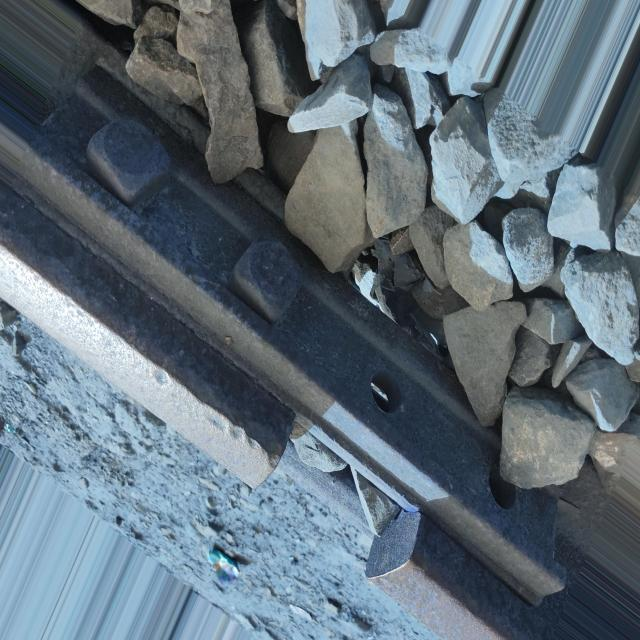Defective Joint: (16, 50, 571, 618)
